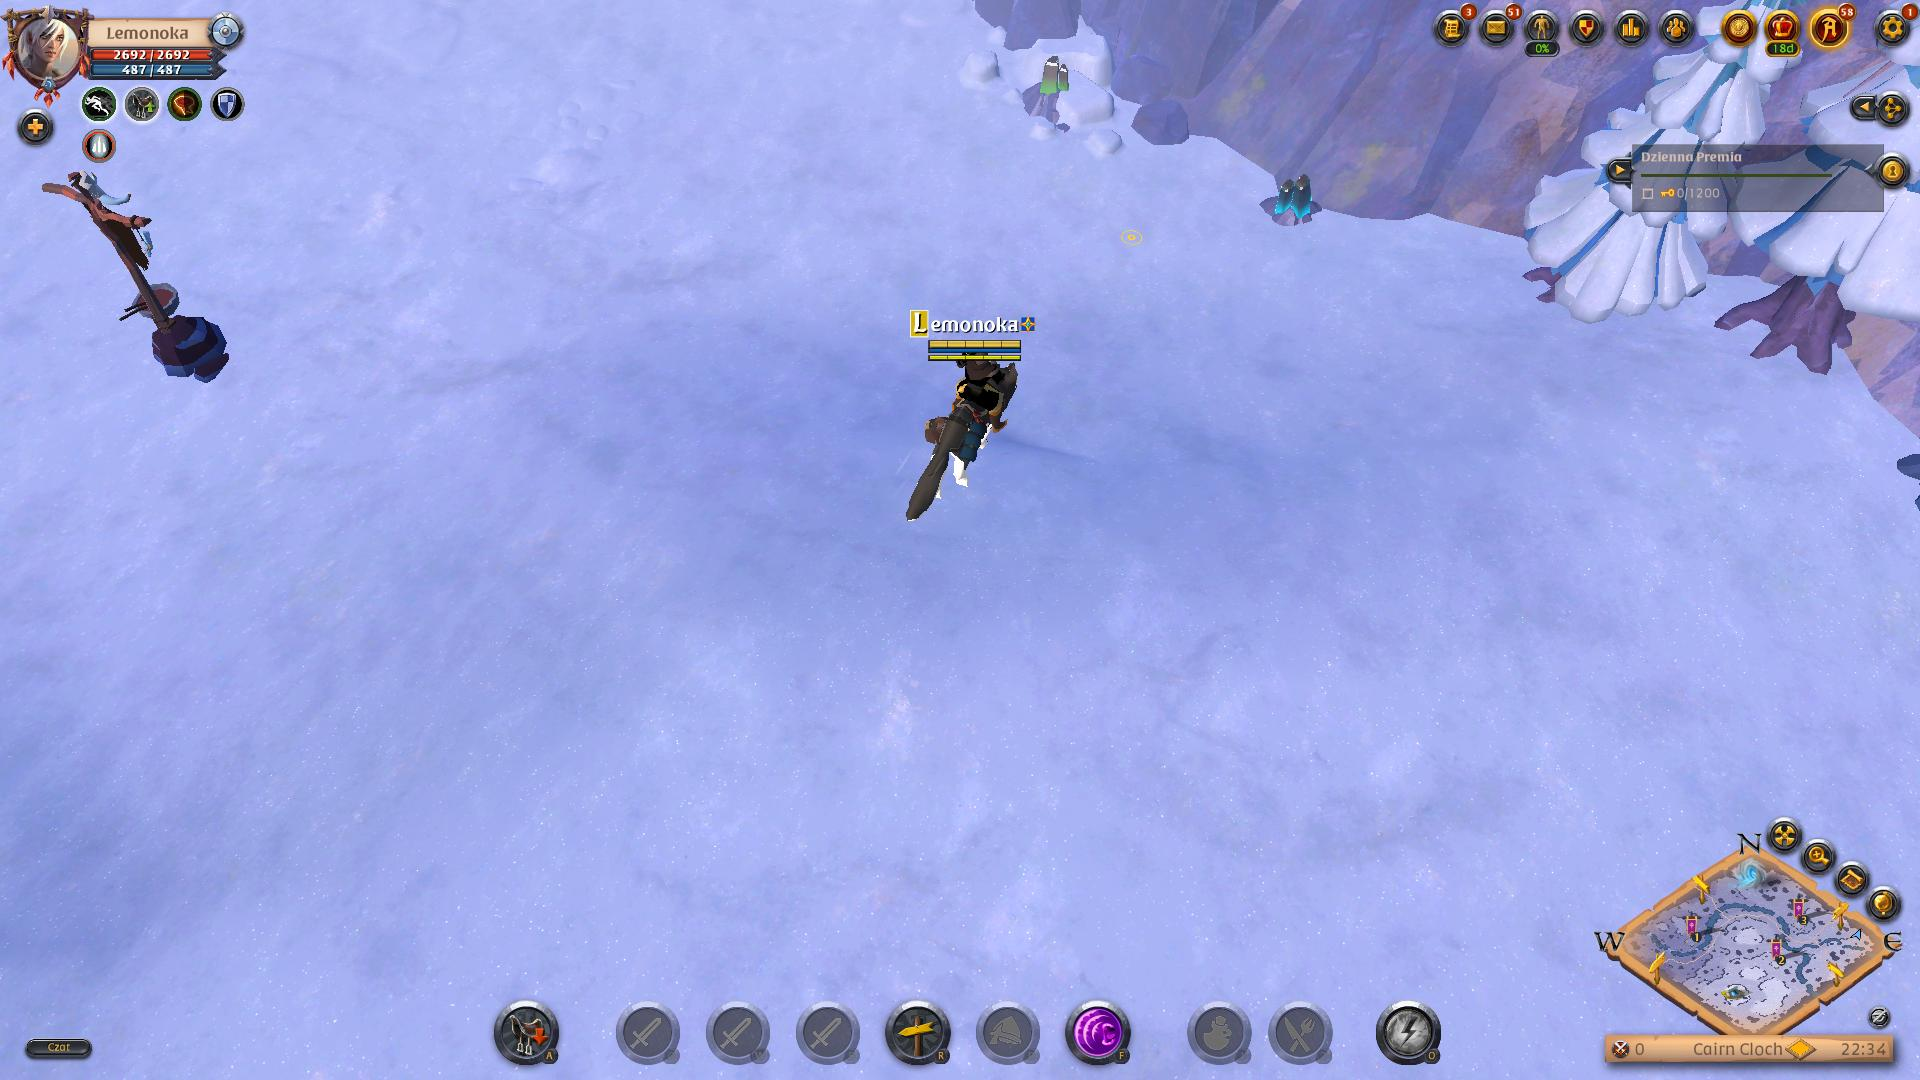ore tier 3: (1022, 50, 1076, 128)
ore tier 4: (1257, 165, 1320, 236)
